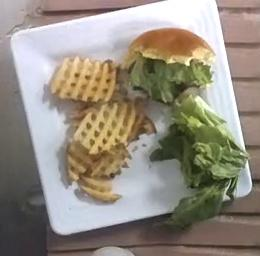burger: (125, 28, 215, 103)
fries: (67, 102, 156, 201)
lettuce: (150, 94, 247, 228)
